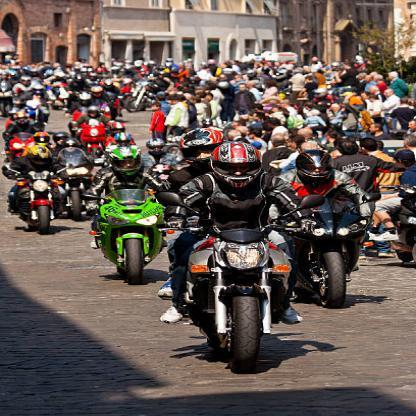Motorcycle: (172, 205, 311, 369), (77, 175, 175, 284), (298, 192, 357, 302), (4, 156, 80, 234)
